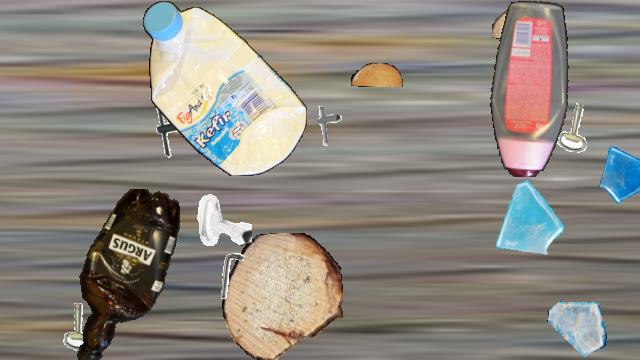glass: (485, 179, 565, 259), (547, 299, 607, 359), (597, 140, 640, 206)
metal: (145, 99, 205, 159), (194, 191, 252, 249), (53, 299, 109, 355), (549, 100, 605, 156), (207, 249, 261, 303), (305, 103, 349, 147)
plastic: (143, 1, 307, 175), (67, 189, 187, 359), (489, 1, 573, 177)
wood: (222, 233, 342, 359), (492, 9, 566, 41), (351, 63, 403, 87)
